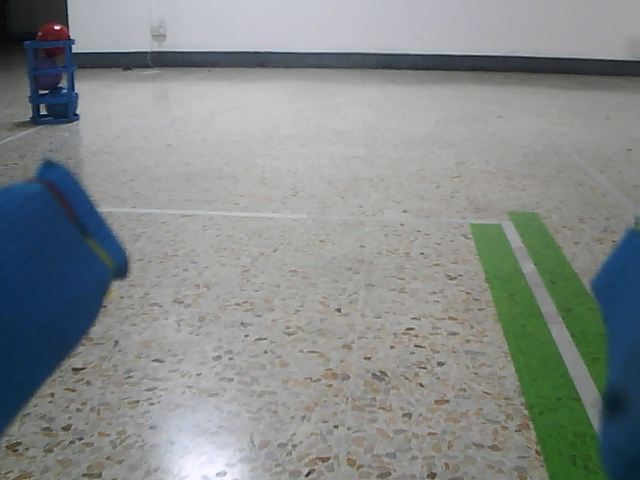Blue ball: (45, 85, 75, 120)
Cyro: (19, 37, 81, 127)
Purple ball: (31, 54, 63, 91)
Red ball: (36, 20, 71, 57)
